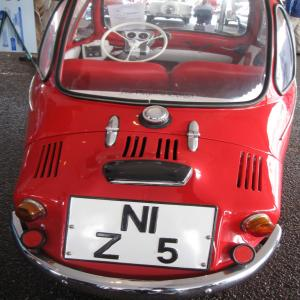Vehicle-registration-plate: (35, 177, 254, 287)
